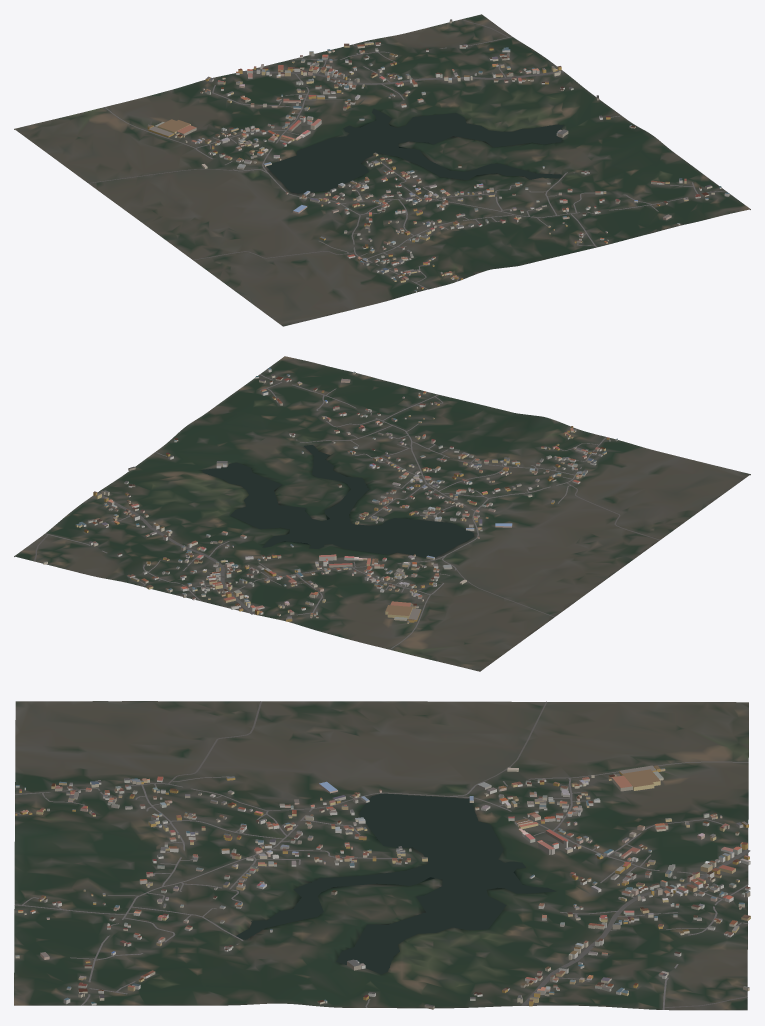
3 renders of one model, top to bottom at view 1: azimuth 30°, elevation 25°; view 2: azimuth 150°, elevation 25°; view 3: azimuth 270°, elevation 25°, orthographic. The views are drawn at different scales.
Visible parts, largest first — view 1: ground, buildings, water, roads; view 2: ground, buildings, water, roads; view 3: ground, buildings, water, roads.
Part boxes in pixels (x1,y1,x2,y2): ground: (14,14,750,326); buildings: (147,19,729,292); water: (266,108,563,193); roads: (88,19,725,289); ground: (14,356,750,671); buildings: (43,367,617,623); water: (201,445,474,557); roads: (34,374,659,649); ground: (14,701,748,1010); buildings: (15,765,750,1009); water: (236,793,556,974); roads: (14,701,750,1009).
Bounding box in the file's own units: 1407 × 25.1 × 1408.
